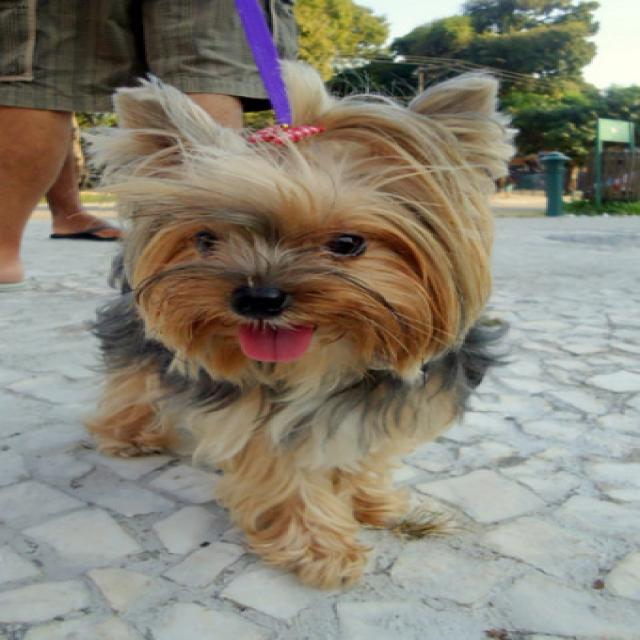dog-yorkshire_terrier: (56, 51, 538, 603)
